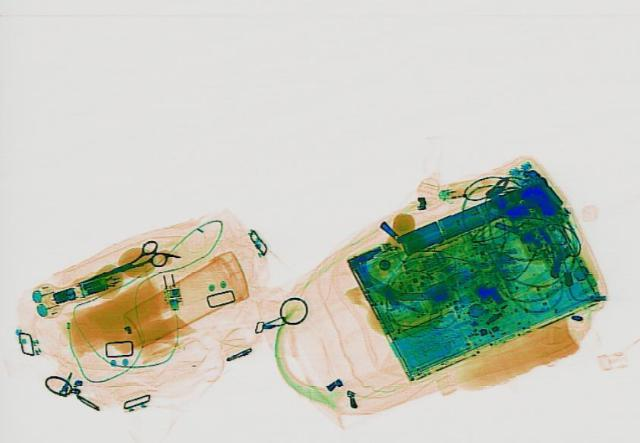Scissors: (66, 235, 176, 293)
